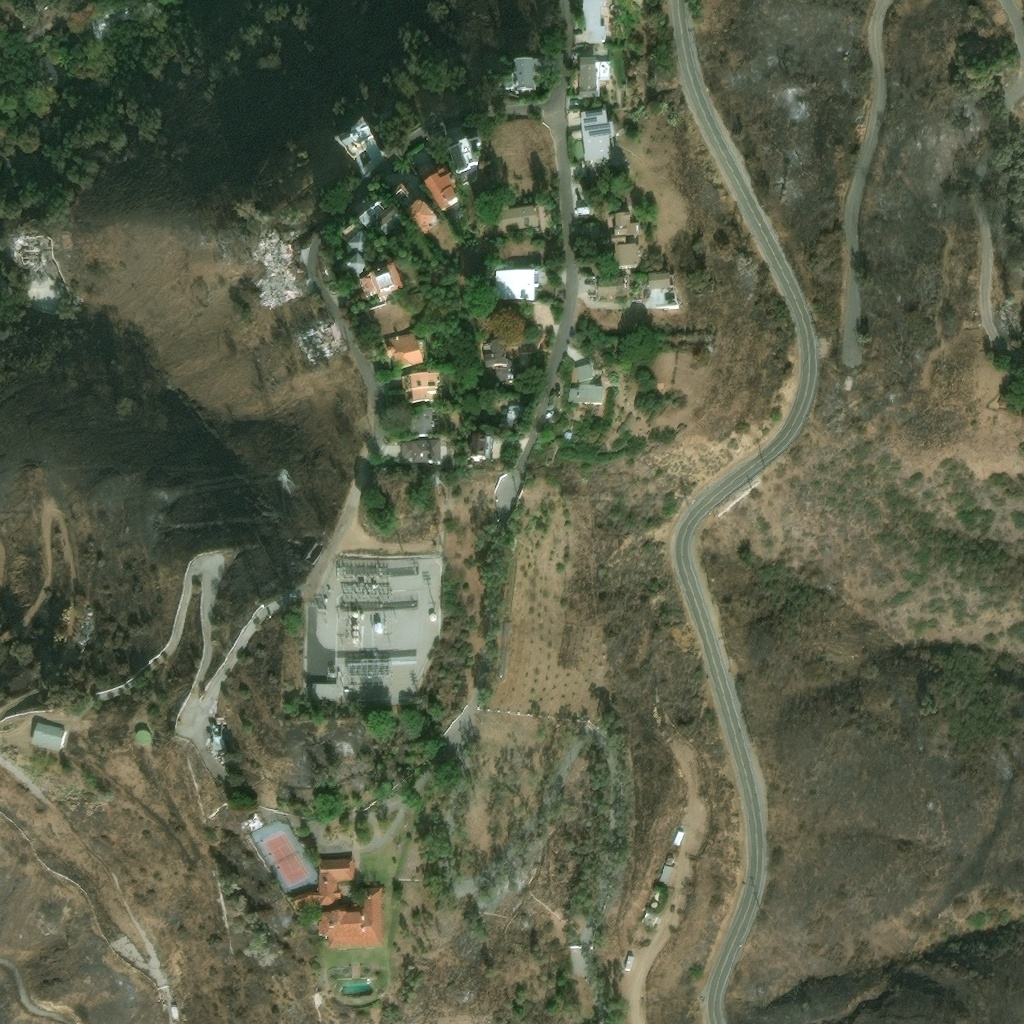0 no-damage: (289, 855, 383, 950), (326, 110, 394, 182), (356, 180, 411, 237), (92, 0, 164, 41), (416, 157, 460, 213), (355, 259, 404, 299), (382, 328, 426, 370), (608, 211, 640, 266), (579, 108, 612, 161), (340, 229, 373, 276), (482, 339, 517, 382), (496, 197, 536, 234), (502, 55, 544, 88), (403, 194, 439, 232), (577, 54, 609, 95), (492, 268, 534, 299), (446, 135, 481, 171), (402, 371, 442, 401), (579, 0, 608, 40), (29, 718, 65, 748), (566, 943, 593, 978), (401, 437, 439, 461), (34, 54, 59, 88), (567, 382, 601, 404), (409, 405, 435, 432), (596, 274, 625, 298), (310, 680, 342, 701), (208, 718, 227, 747), (468, 432, 489, 456), (498, 403, 522, 424), (646, 268, 669, 288), (637, 908, 658, 929), (575, 361, 594, 379), (658, 863, 672, 883), (136, 728, 151, 743), (672, 828, 684, 844), (623, 953, 634, 970), (563, 430, 571, 438)
3 destroyed: (298, 317, 347, 353), (252, 229, 300, 265), (259, 265, 302, 296), (15, 231, 42, 270), (239, 805, 266, 830), (77, 614, 95, 640), (85, 603, 94, 614)
4 un-classified: (318, 567, 328, 580)
